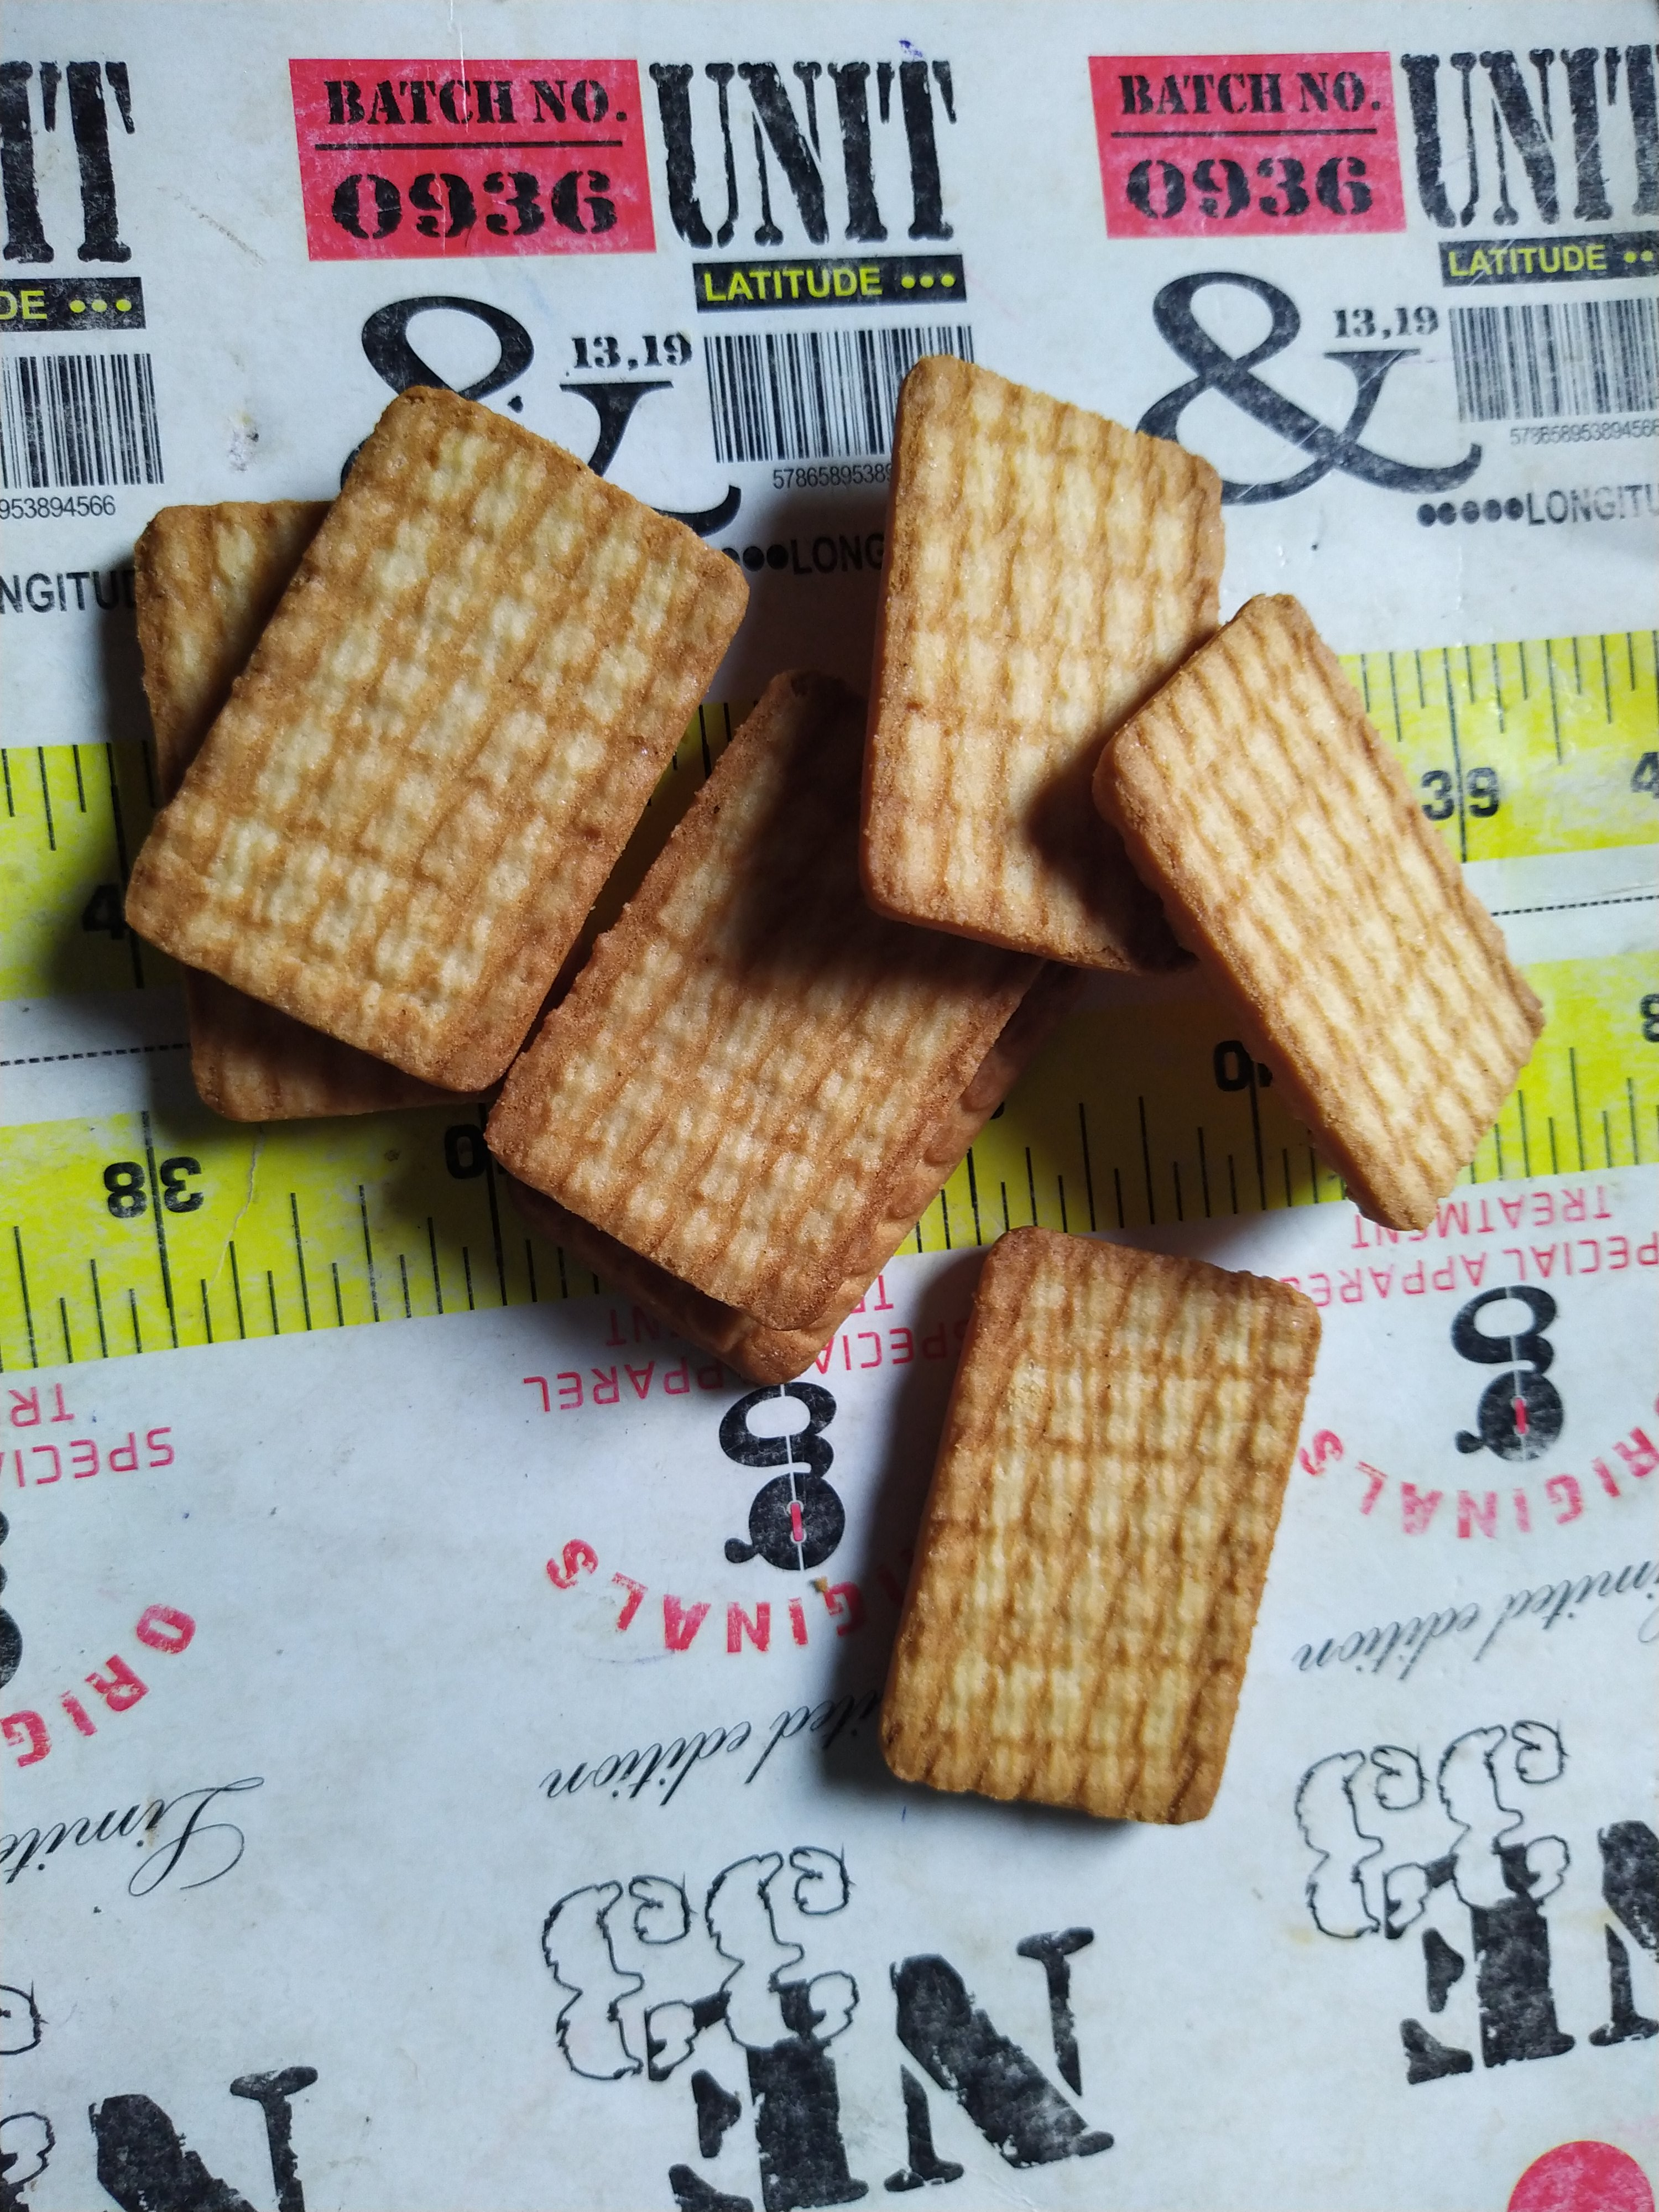food: (113, 354, 1563, 1839)
